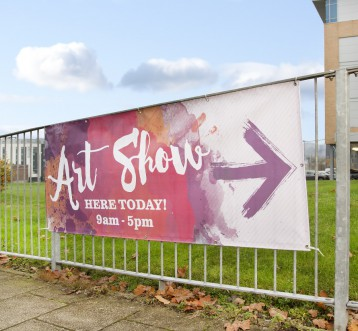vinyl banner: (36, 81, 320, 263)
